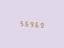five: (18, 18, 22, 27)
nine: (28, 19, 32, 28), (38, 20, 42, 28)
six: (23, 19, 27, 27), (33, 20, 37, 28)
